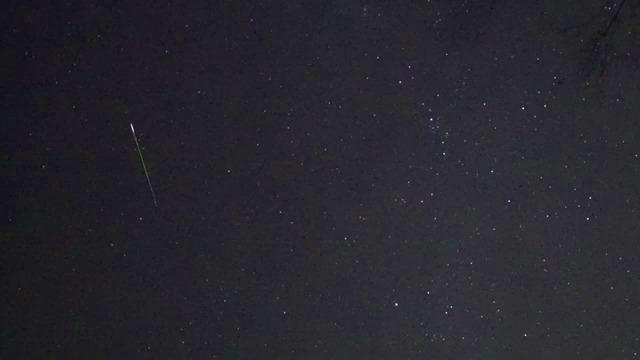meteorite: (116, 115, 172, 216)
